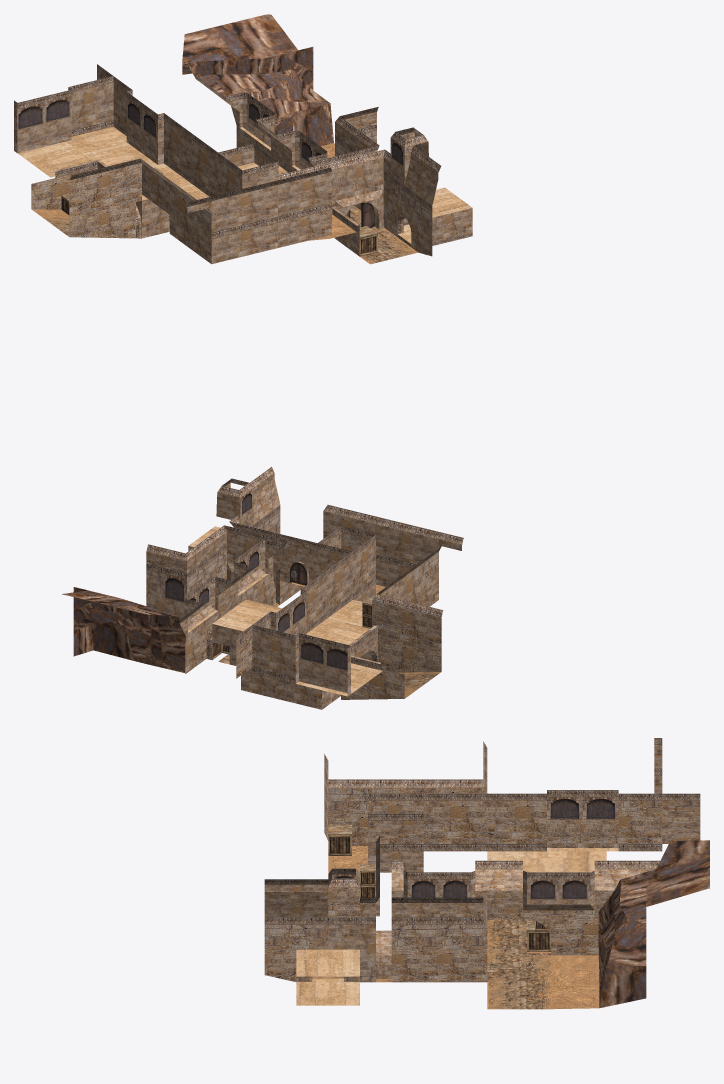
Rendered from 256DustParts3.fbx.
3 views of the same model, one above another, from view 1: azimuth 30°, elevation 25°; view 2: azimuth 150°, elevation 25°; view 3: azimuth 270°, elevation 25° (orthographic). The views are drawn at different scales.
Parts seen in each view (by area): view 1: Trigger3; view 2: Trigger3; view 3: Trigger3.
Boxes of the visible parts, left/top/right/bottom form: Trigger3: left=14, top=14, right=472, bottom=264; Trigger3: left=62, top=466, right=463, bottom=709; Trigger3: left=264, top=738, right=709, bottom=1009.
Bounding box in the file's own units: 82.37 × 12.91 × 70.61.
1 material, 1 textured.
